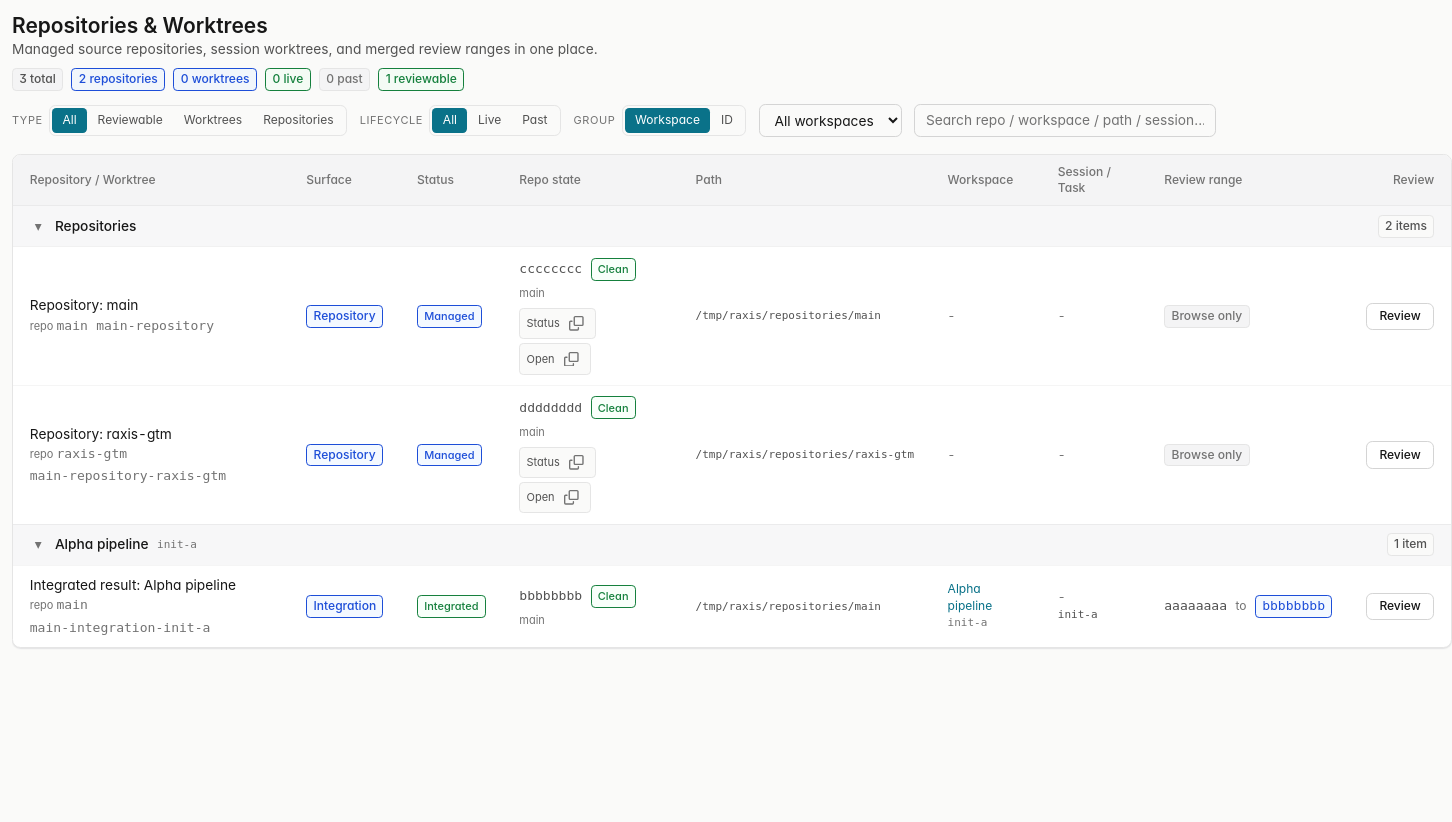
Test: <GitPage> › shows every managed repository in the repositories tab
Check: the link "Repository: main" is shown, box [30,297,138,313]
Check: the link "Repository: raxis-gtm" is shown, box [30,426,172,442]
Click the button "Repositories": (298, 121) [253,108,344,133]
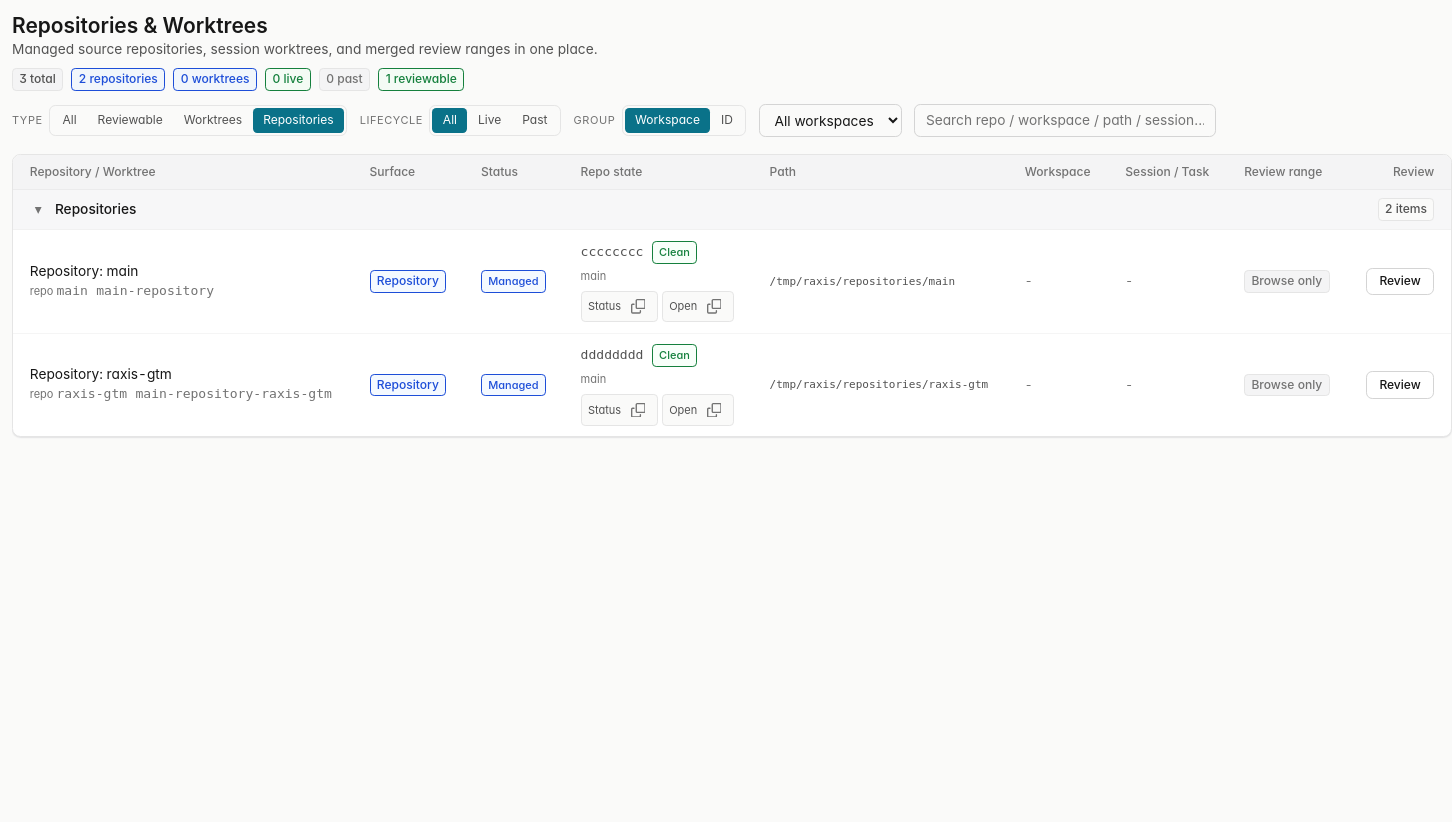
Check: the link "Repository: main" is shown, box [30,263,138,279]
Check: the link "Integrated result: Alpha pipeline" is gone
